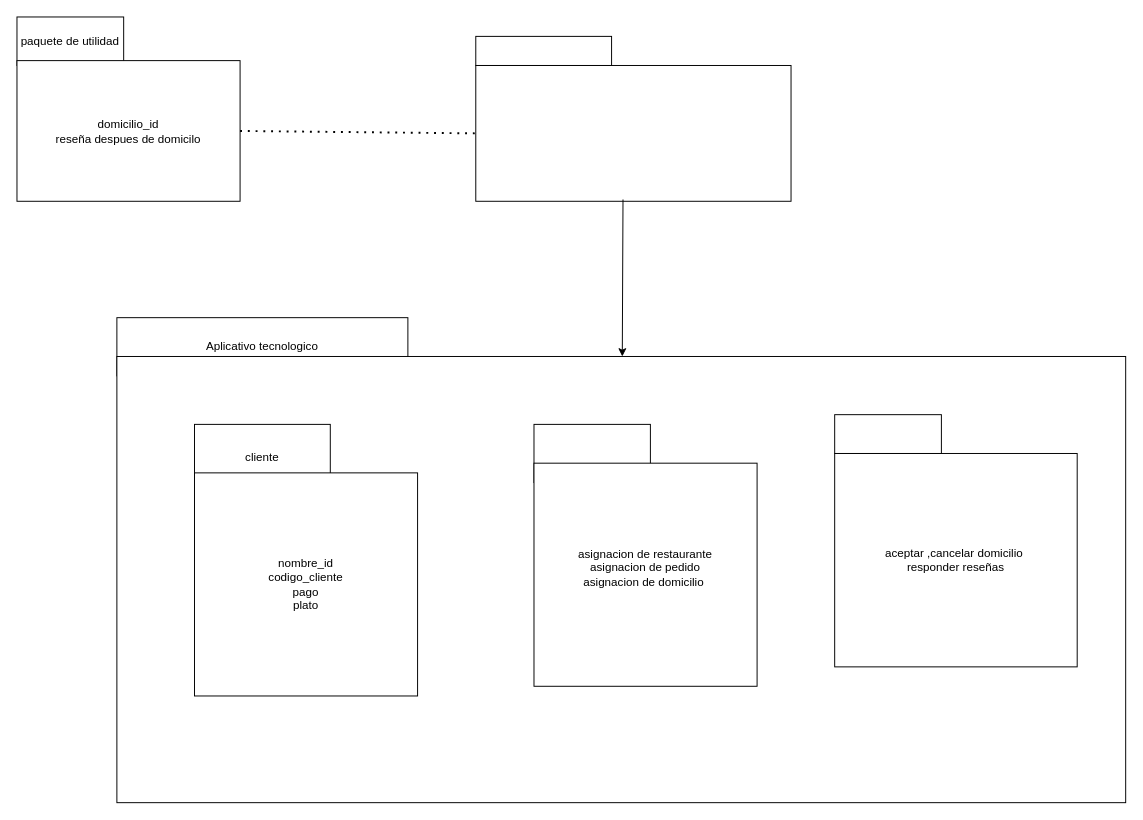
The diagram is 1143 pixels wide and 820 high, and some of its shapes have lost their labels. Each missing label, with the centre of its shape:
"pagina web aplicacion movil registro de domicilio asignacion de domicilio" belongs at (x=633, y=133).
"paquete de aplicativo tecnologico" belongs at (x=543, y=50).
"pedido" belongs at (x=591, y=453).
"servicio de cocinas cerradas" belongs at (x=887, y=433).
